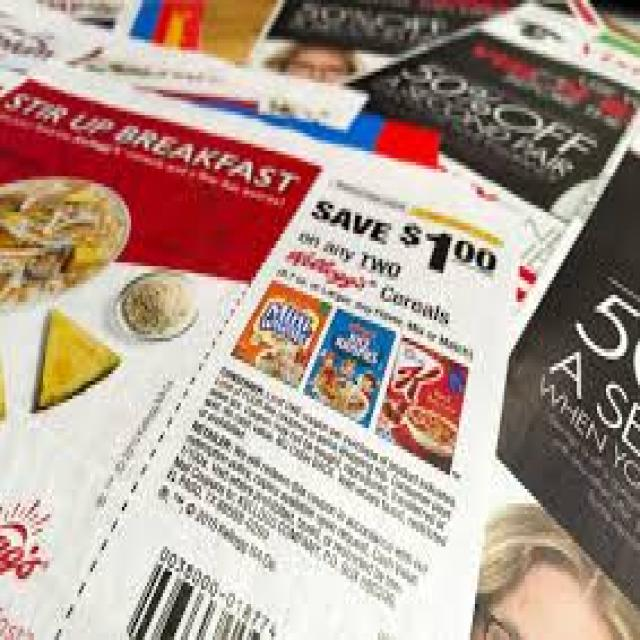paper: (0, 51, 518, 637), (325, 0, 637, 298), (468, 141, 638, 637), (244, 0, 603, 86), (109, 0, 278, 61), (0, 0, 108, 50)
